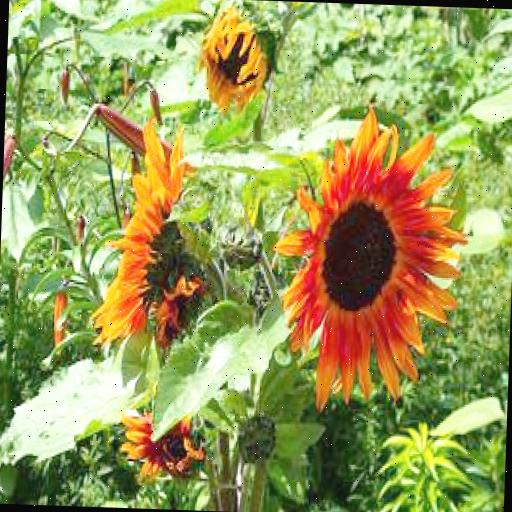sunflower: (272, 97, 466, 408), (90, 118, 210, 359), (196, 8, 272, 118)
